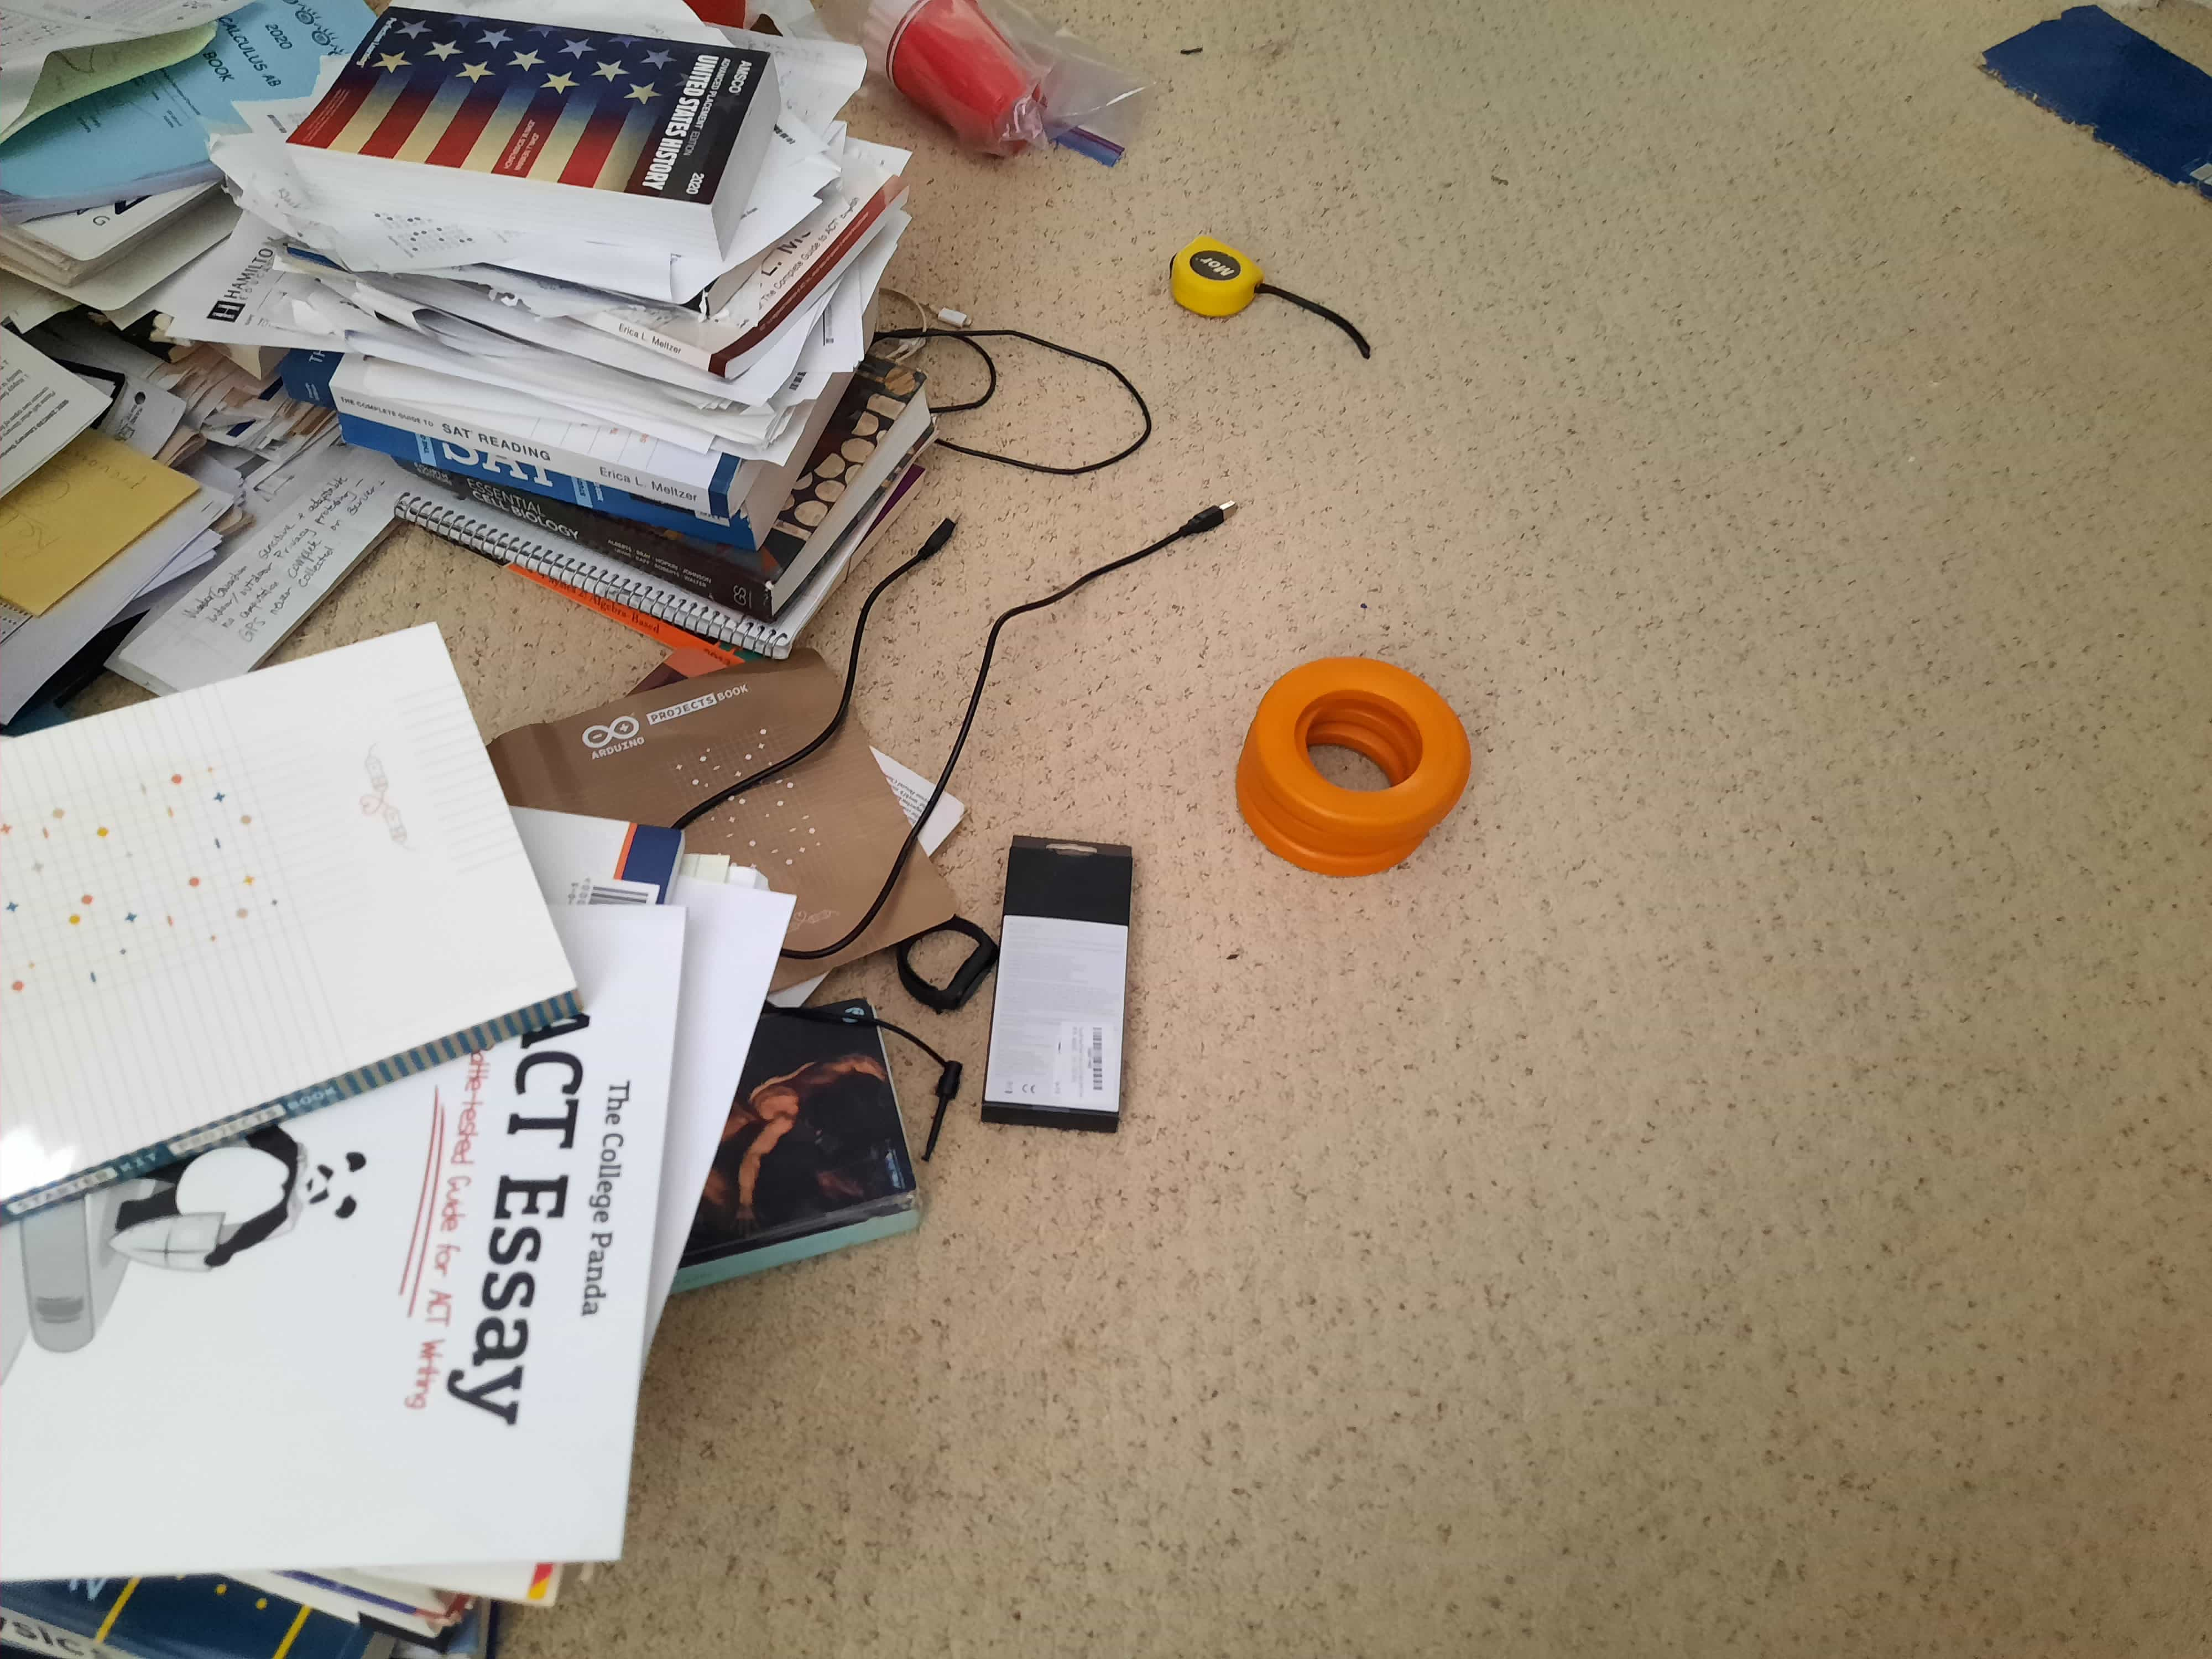FourStack: (1238, 655, 1467, 878)
